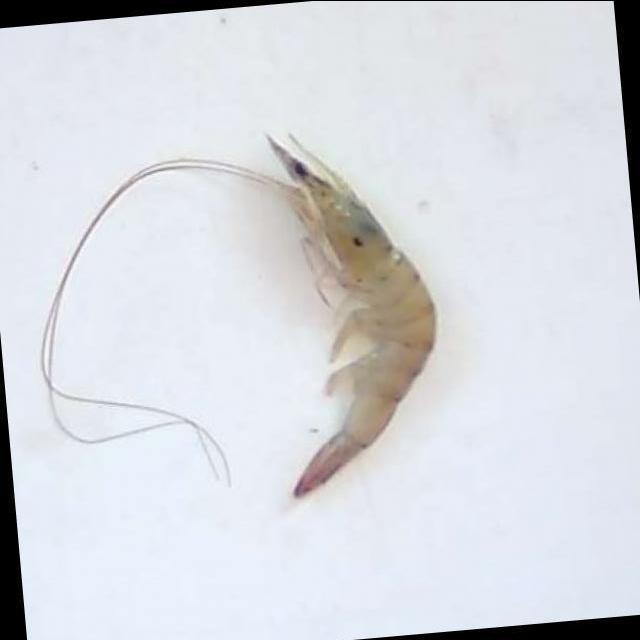shrimp: (269, 135, 436, 496)
